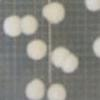white: (41, 1, 66, 25), (1, 14, 24, 40), (25, 37, 48, 62), (19, 11, 39, 37), (23, 77, 45, 100), (50, 45, 71, 69), (61, 52, 79, 75), (47, 82, 68, 100), (91, 34, 100, 61), (83, 0, 100, 14)
